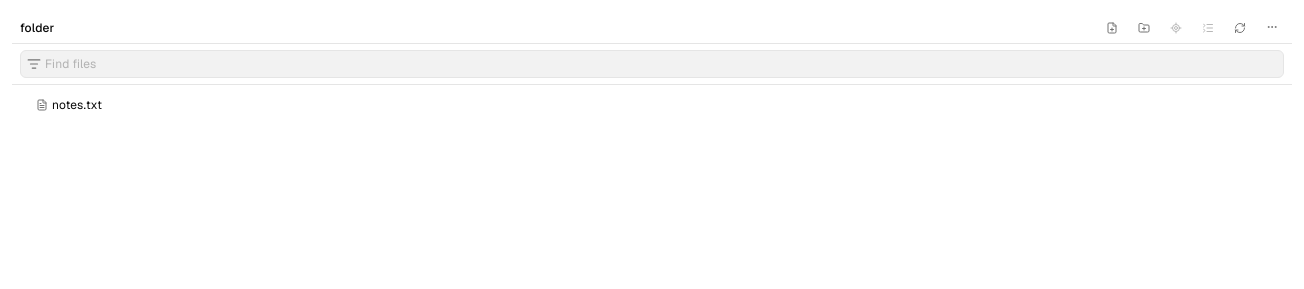
open in terminal (#335 startupCwd regression: #275 must keep passing the row directory) › offers no terminal row for files (directories only, like the source)
The image size is (1304, 289).
Right-click the button "notes.txt".
right_click(77, 105)  # box [12, 93, 1292, 117]
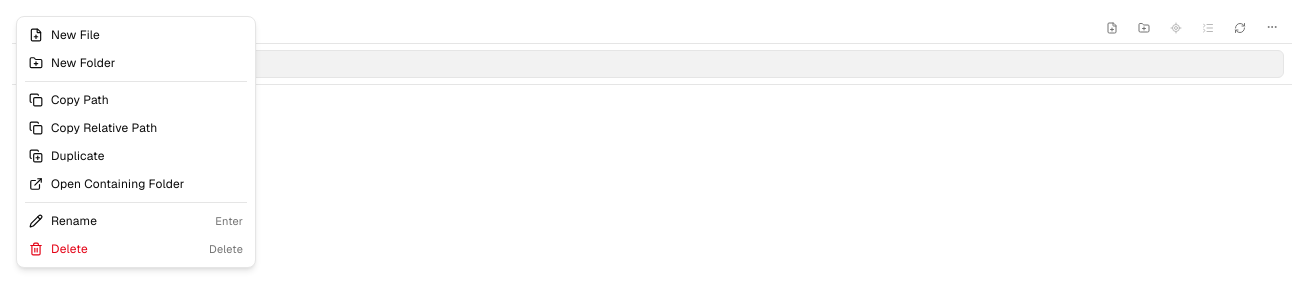
expect the menu item "Copy Path" is shown: met, box [21, 86, 251, 114]
